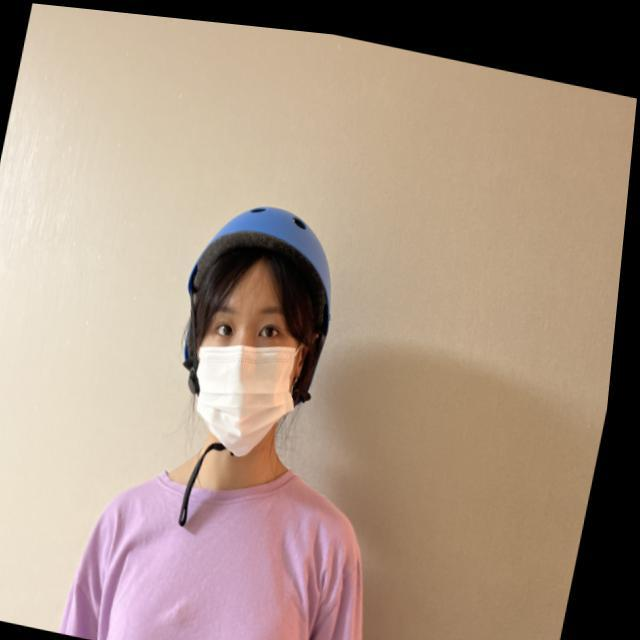Helmet: (177, 203, 334, 458)
